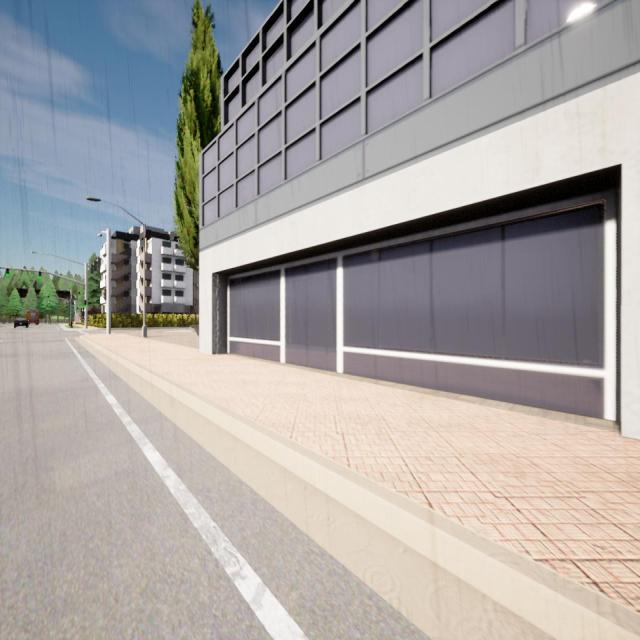Vehicle: (26, 309, 40, 325), (14, 316, 28, 328)
traffic_light: (94, 261, 97, 271), (98, 257, 101, 267), (6, 268, 9, 276), (104, 289, 106, 300), (84, 300, 87, 307), (91, 264, 93, 274), (39, 272, 41, 280)
